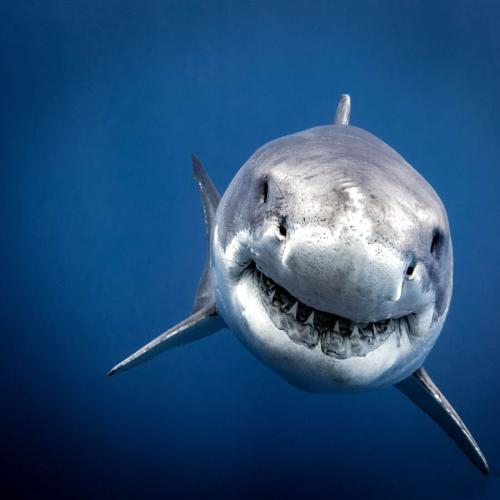shark-endangered: (202, 101, 460, 403)
